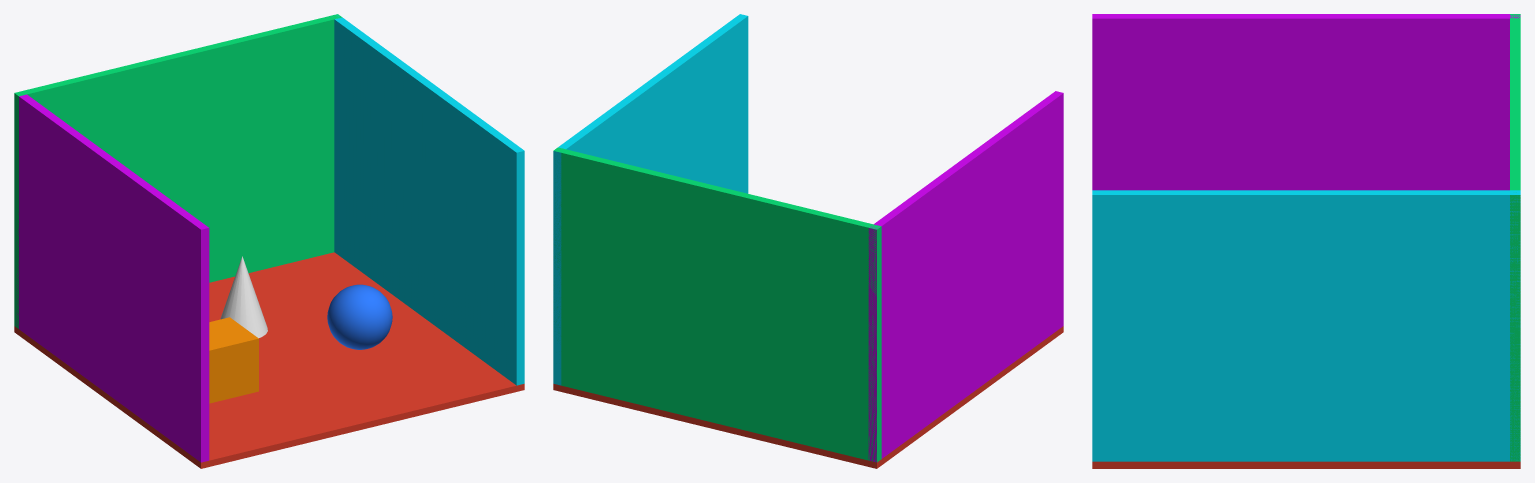
3 views of the same model, side by side, from view 1: azimuth 30°, elevation 25°; view 2: azimuth 150°, elevation 25°; view 3: azimuth 270°, elevation 25° (orthographic). The views are drawn at different scales.
Visible parts, largest first — view 1: color-block-room; view 2: color-block-room; view 3: color-block-room.
Boxes of the visible parts, box(x1,y1,x2,y2) form: color-block-room: box(14, 14, 524, 468); color-block-room: box(553, 14, 1063, 468); color-block-room: box(1092, 14, 1520, 468).
Bounding box in the file's own units: 3.2 × 2.26 × 3.2.
